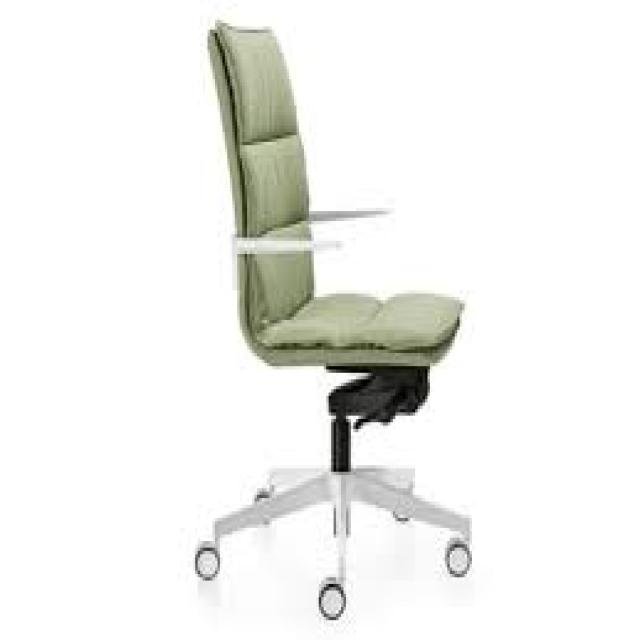chair: (144, 0, 616, 640)
